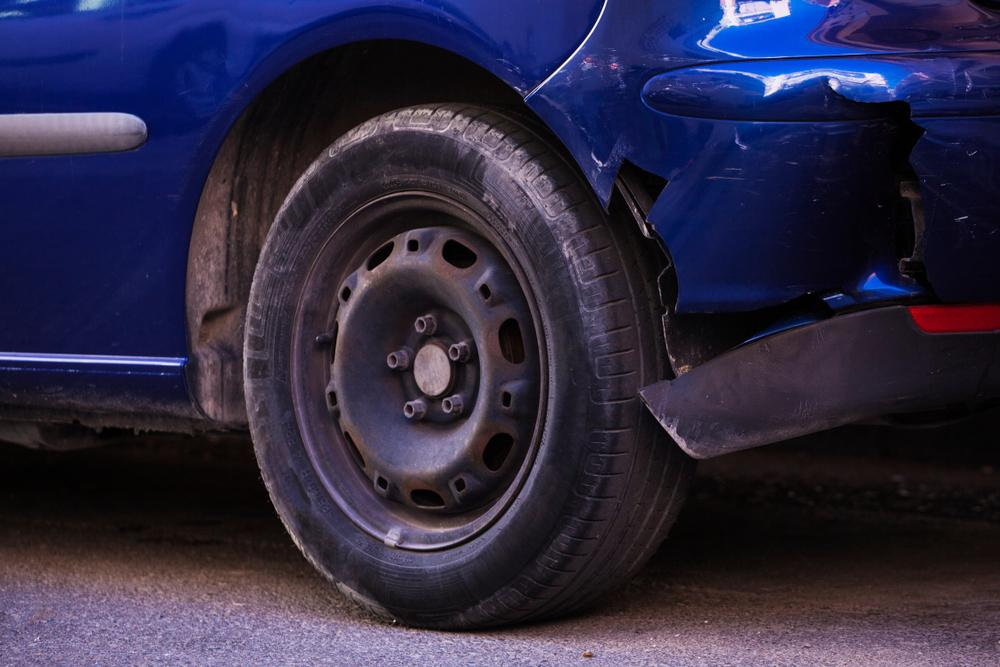crack: (827, 78, 934, 295)
dent: (143, 16, 290, 181)
